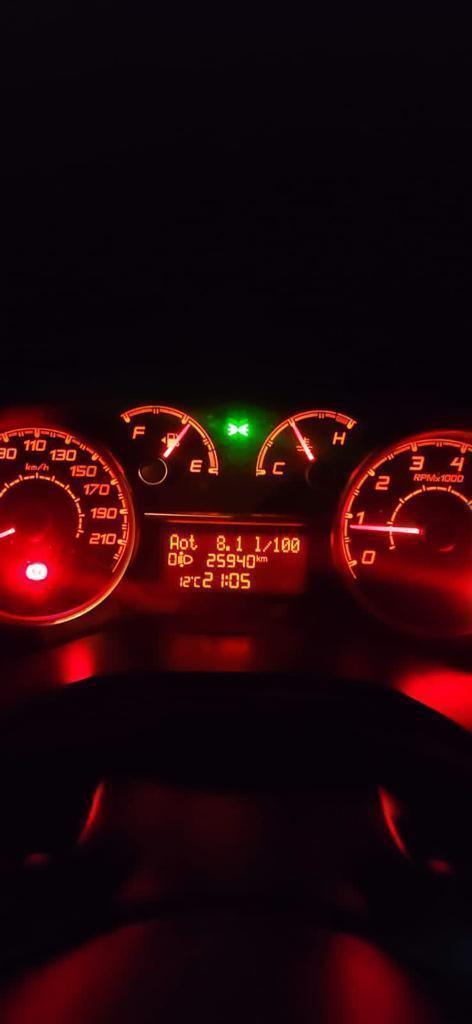,: (225, 545, 230, 551)
0: (228, 572, 239, 588), (290, 537, 300, 553), (167, 552, 177, 566), (281, 537, 290, 552), (246, 554, 255, 568)
1: (235, 535, 242, 551), (273, 536, 279, 552), (220, 572, 224, 587), (179, 575, 183, 587)
2: (202, 571, 213, 588), (206, 553, 215, 567), (182, 576, 190, 587)
4: (236, 554, 245, 568)
5: (239, 573, 250, 589), (216, 553, 225, 567)
8: (216, 535, 225, 550)
9: (226, 553, 236, 568)
X: (169, 533, 179, 550), (189, 533, 198, 550), (261, 540, 272, 552), (179, 538, 188, 550), (254, 535, 260, 552), (193, 575, 200, 587), (260, 556, 268, 562), (224, 575, 228, 586), (255, 554, 260, 562)
odometer: (157, 525, 311, 597)
